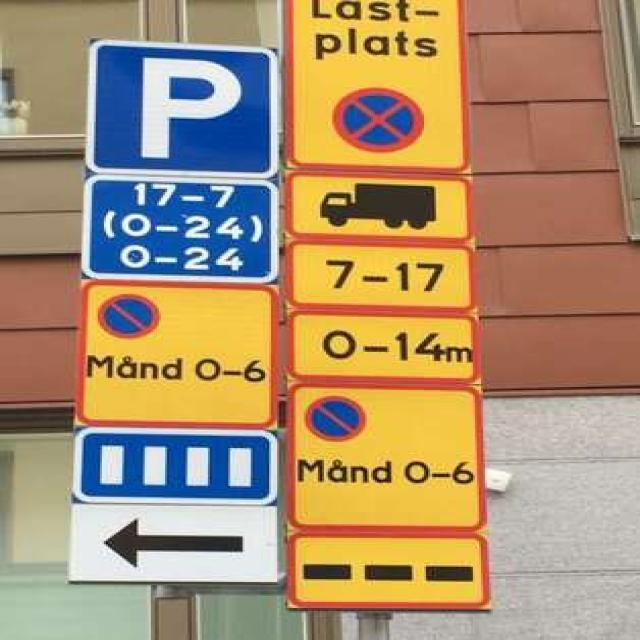P-skylt: (79, 35, 277, 176)
